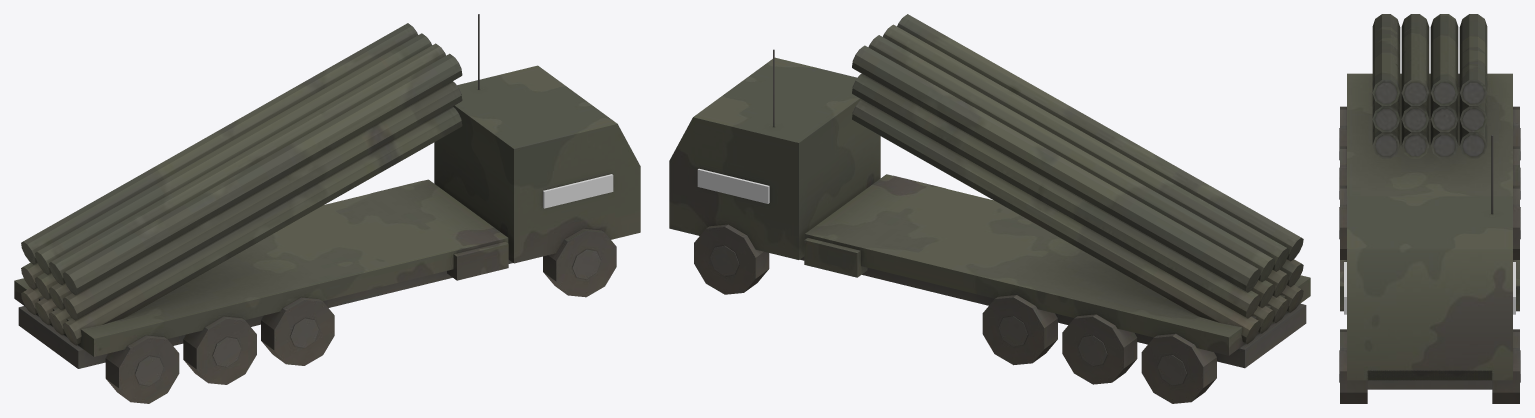
Rendered from phl03.glb.
3 renders of one model, left to right at view 1: azimuth 30°, elevation 25°; view 2: azimuth 150°, elevation 25°; view 3: azimuth 270°, elevation 25°, orthographic. The views are drawn at different scales.
Visible parts, largest first — view 1: g_phl03_hull, g_phl03_turret; view 2: g_phl03_hull, g_phl03_turret; view 3: g_phl03_hull, g_phl03_turret.
Part boxes in pixels (left/top/right/bottom): g_phl03_hull: left=14, top=14, right=640, bottom=403; g_phl03_turret: left=21, top=23, right=462, bottom=345; g_phl03_hull: left=669, top=49, right=1310, bottom=403; g_phl03_turret: left=852, top=14, right=1303, bottom=344; g_phl03_hull: left=1339, top=73, right=1520, bottom=403; g_phl03_turret: left=1372, top=14, right=1487, bottom=158.
Bounding box in the file's own units: 9.64 × 4.21 × 2.62.
3 materials, 2 textured.
